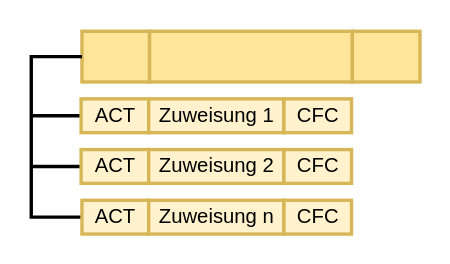
This 450x264 diagram has some shape labels left out. The shapes that lost their labels are listed below. From the top down, each one's centre as x and y in pixels, then its label:
At [114,56]: "PRG".
At [250,56]: "Arbeitsplan".
At [385,56]: "SFC".
